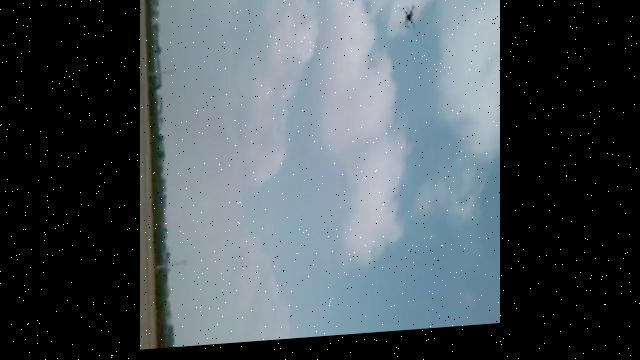drone: (402, 6, 418, 38)
